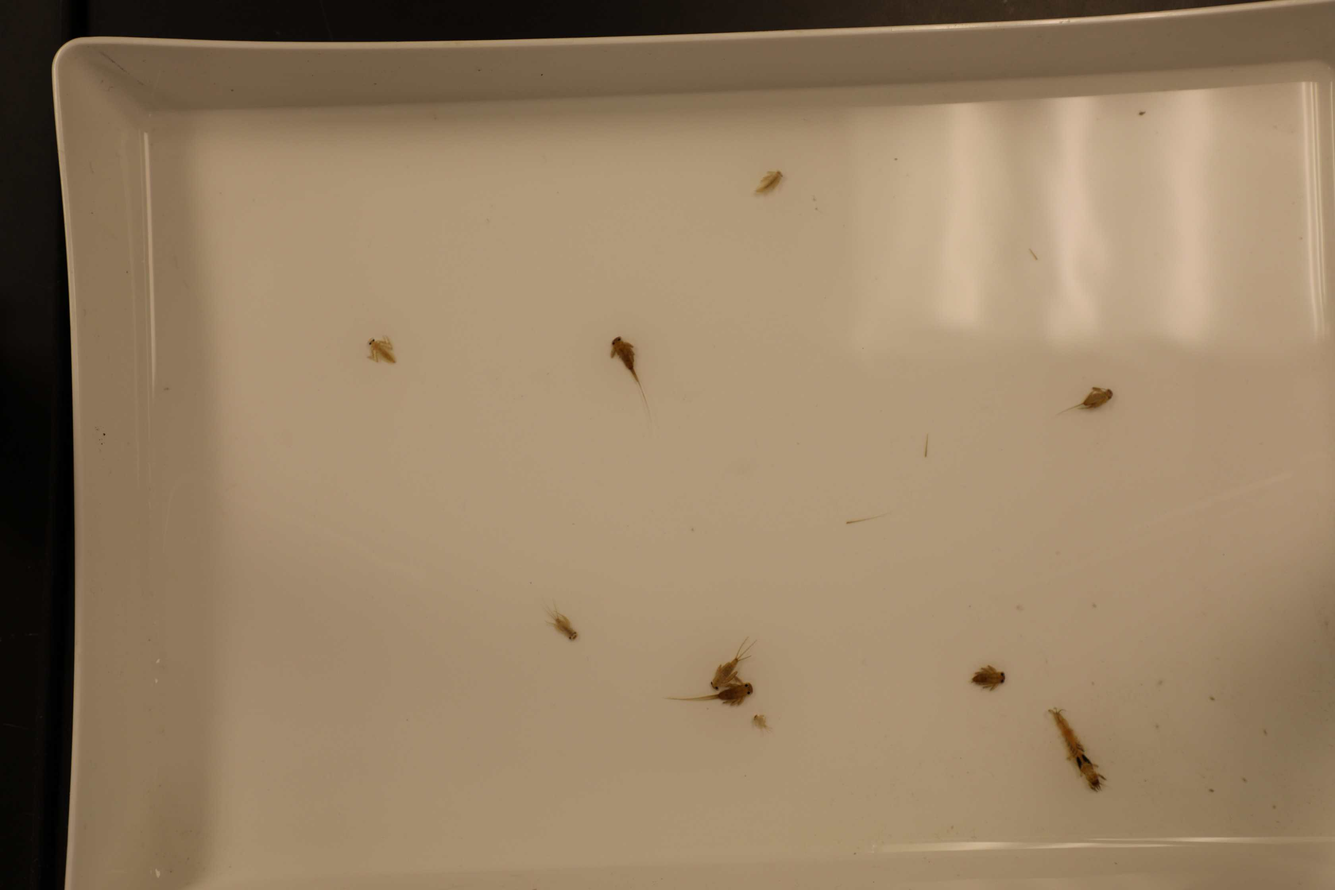Mayfly: (1050, 707, 1110, 796), (604, 335, 656, 428), (707, 636, 761, 692), (1050, 383, 1120, 419), (664, 685, 755, 708), (751, 165, 793, 201), (543, 601, 576, 646), (971, 667, 1006, 694), (367, 338, 393, 365), (753, 717, 771, 728)
